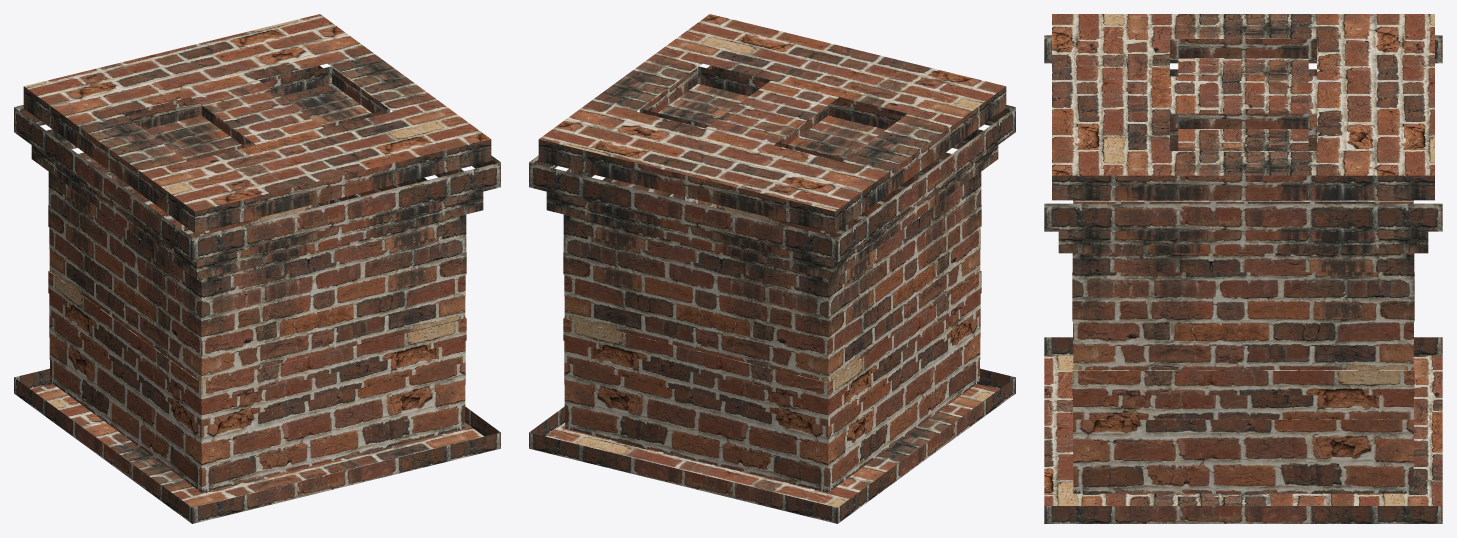
Rendered from roof-chimney-stack.glb.
The picture shows the model from 3 angles, left to right: view 1: azimuth 30°, elevation 25°; view 2: azimuth 150°, elevation 25°; view 3: azimuth 270°, elevation 25°; orthographic projection. The views are drawn at different scales.
Parts seen in each view (by area): view 1: roof-chimney-stack; view 2: roof-chimney-stack; view 3: roof-chimney-stack.
Part boxes in pixels (<box>): roof-chimney-stack: <box>14,14,500,523</box>; roof-chimney-stack: <box>529,14,1015,523</box>; roof-chimney-stack: <box>1044,14,1442,523</box>.
Bounding box in the file's own units: 1.1 × 1.05 × 1.1.
1 material, 1 textured.
